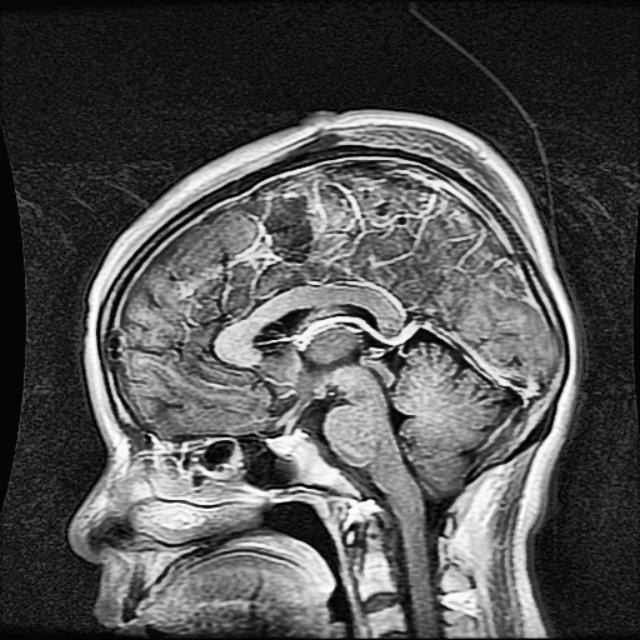Meningioma: (205, 182, 310, 260)
